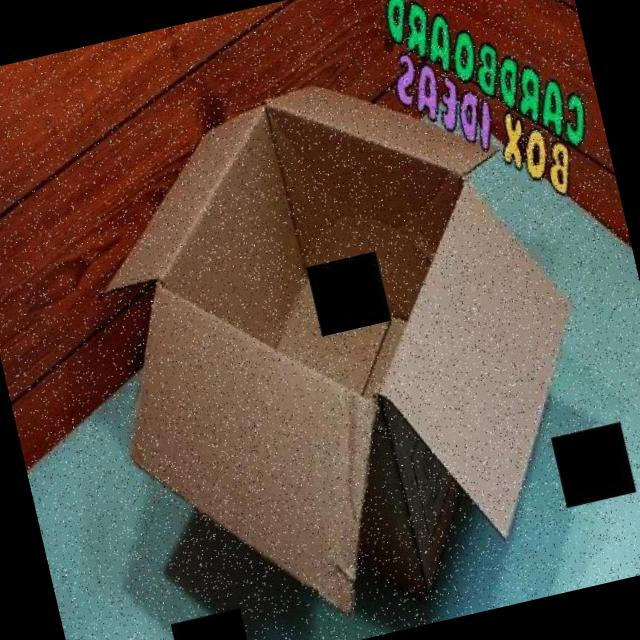box: (52, 27, 633, 640)
